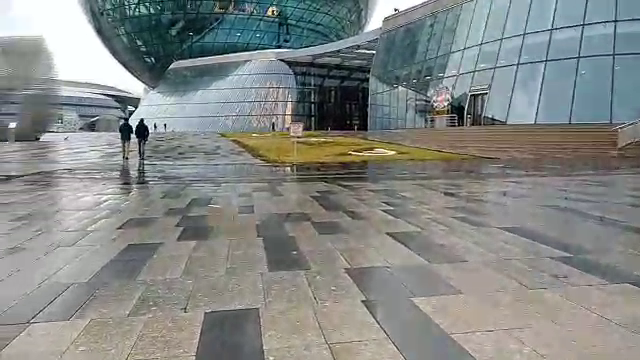pivo: (420, 83, 465, 133)
